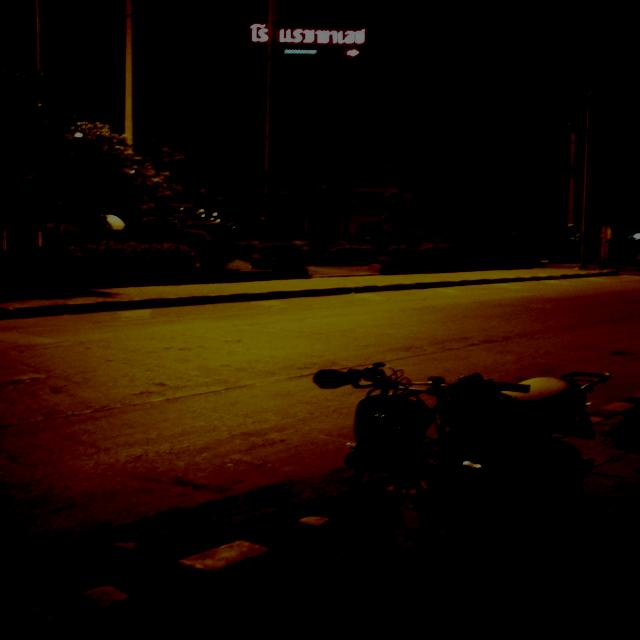Motorbike: (292, 362, 604, 600)
